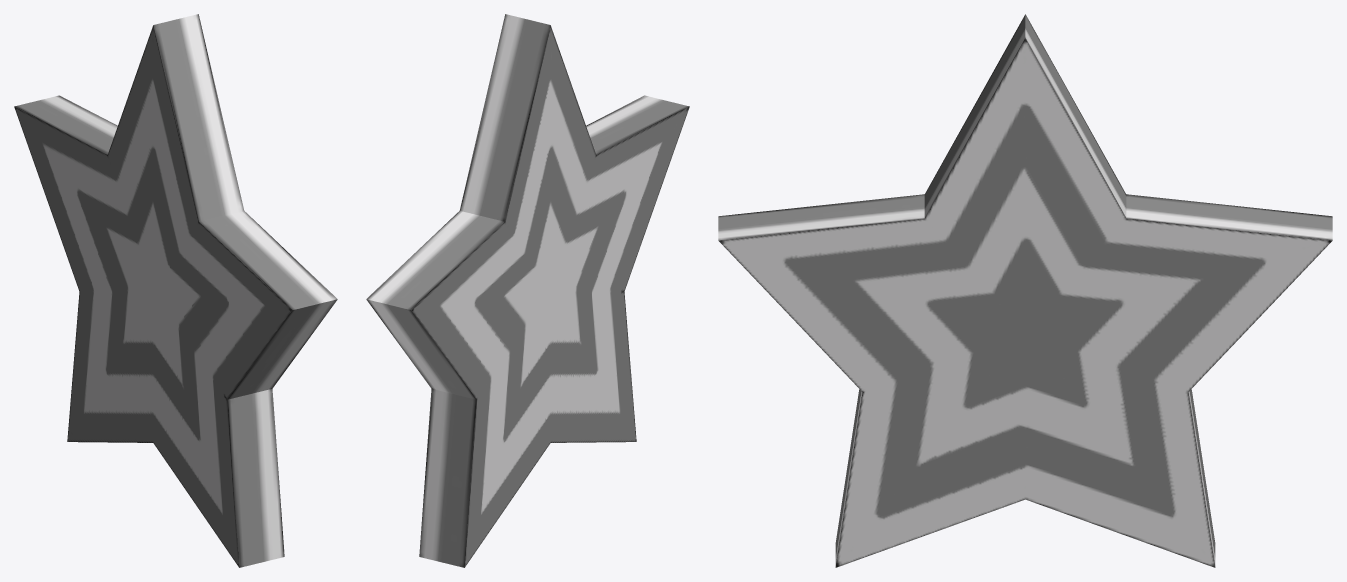
The model's file is StarTarget_Mesh_02.fbx.
The picture shows the model from 3 angles, left to right: view 1: azimuth 30°, elevation 25°; view 2: azimuth 150°, elevation 25°; view 3: azimuth 270°, elevation 25°; orthographic projection. The views are drawn at different scales.
Parts seen in each view (by area): view 1: StarTarget_Mesh_02; view 2: StarTarget_Mesh_02; view 3: StarTarget_Mesh_02.
Part boxes in pixels (x1,y1,x2,y2): StarTarget_Mesh_02: (14,14,337,567); StarTarget_Mesh_02: (366,14,689,567); StarTarget_Mesh_02: (718,14,1332,567).
Bounding box in the file's own units: 0.2688 × 2.72 × 2.86.
1 material, 1 textured.
